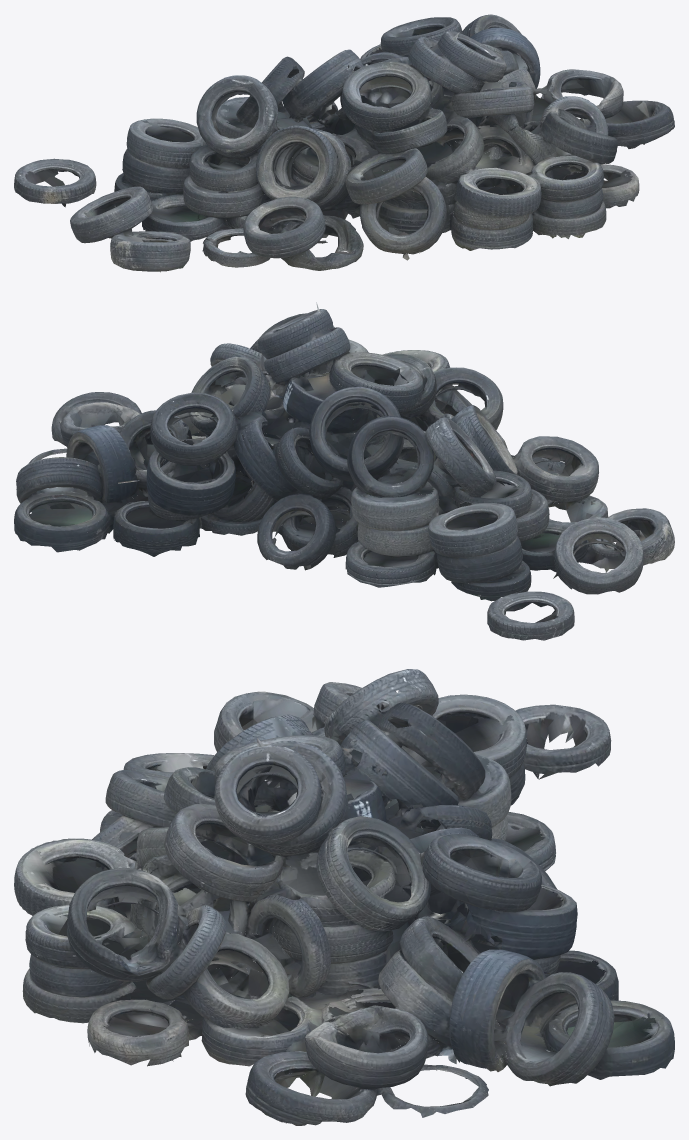
File: tire-pile.glb
The picture shows the model from 3 angles, top to bottom: view 1: azimuth 30°, elevation 25°; view 2: azimuth 150°, elevation 25°; view 3: azimuth 270°, elevation 25°; orthographic projection. The views are drawn at different scales.
Parts seen in each view (by area): view 1: tires2_tires2_u1_v2_0, tires2_tires2_u2_v1_0, tires2_tires2_u2_v2_0, tires2_tires2_u1_v1_0; view 2: tires2_tires2_u1_v1_0, tires2_tires2_u2_v1_0, tires2_tires2_u1_v2_0, tires2_tires2_u2_v2_0; view 3: tires2_tires2_u2_v2_0, tires2_tires2_u1_v1_0, tires2_tires2_u1_v2_0, tires2_tires2_u2_v1_0.
Part boxes in pixels (x1=…): tires2_tires2_u1_v2_0: x1=70, y1=26, x2=668, y2=272; tires2_tires2_u2_v1_0: x1=14, y1=25, x2=674, y2=262; tires2_tires2_u2_v2_0: x1=377, y1=25, x2=672, y2=234; tires2_tires2_u1_v1_0: x1=15, y1=14, x2=543, y2=207; tires2_tires2_u1_v1_0: x1=14, y1=392, x2=573, y2=628; tires2_tires2_u2_v1_0: x1=28, y1=351, x2=591, y2=640; tires2_tires2_u1_v2_0: x1=37, y1=302, x2=674, y2=594; tires2_tires2_u2_v2_0: x1=54, y1=309, x2=338, y2=495; tires2_tires2_u2_v2_0: x1=53, y1=738, x2=450, y2=1117; tires2_tires2_u1_v1_0: x1=429, y1=694, x2=674, y2=1113; tires2_tires2_u1_v2_0: x1=14, y1=682, x2=444, y2=1117; tires2_tires2_u2_v1_0: x1=45, y1=669, x2=631, y2=1125.
Bounding box in the file's own units: 5.22 × 1.49 × 3.59.
4 materials, 4 textured.
